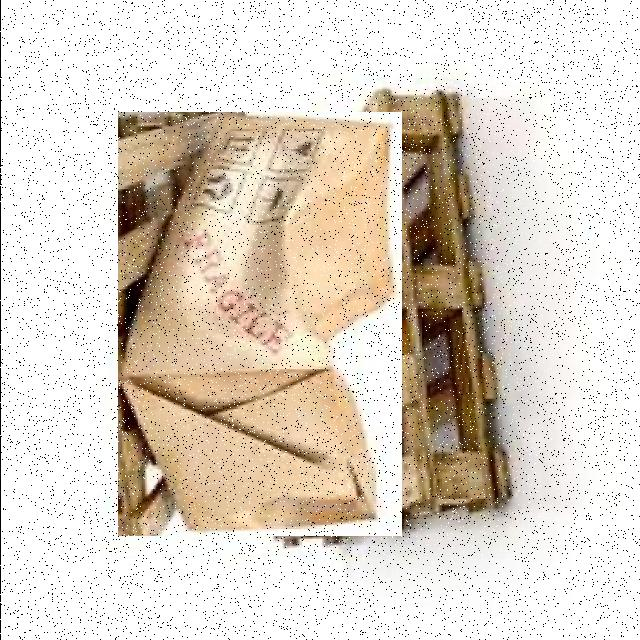defect: (117, 112, 401, 536)
